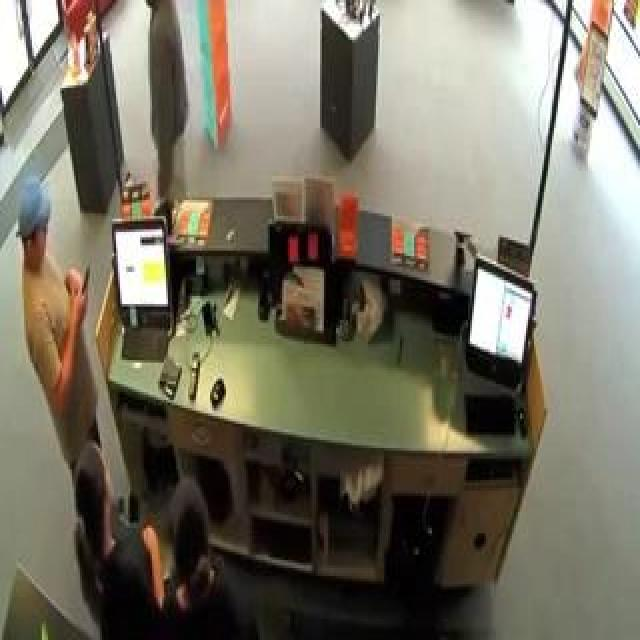low_con: (12, 174, 55, 276)
no_con: (160, 484, 218, 608), (72, 435, 115, 552)
